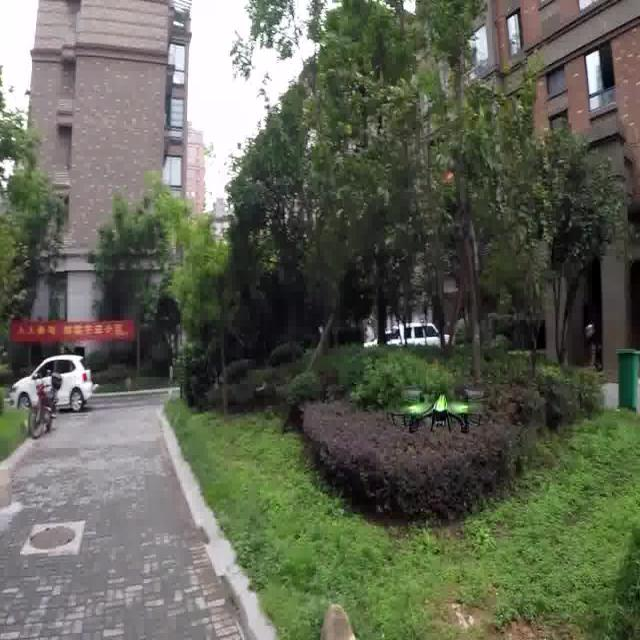drone: (389, 383, 481, 436)
